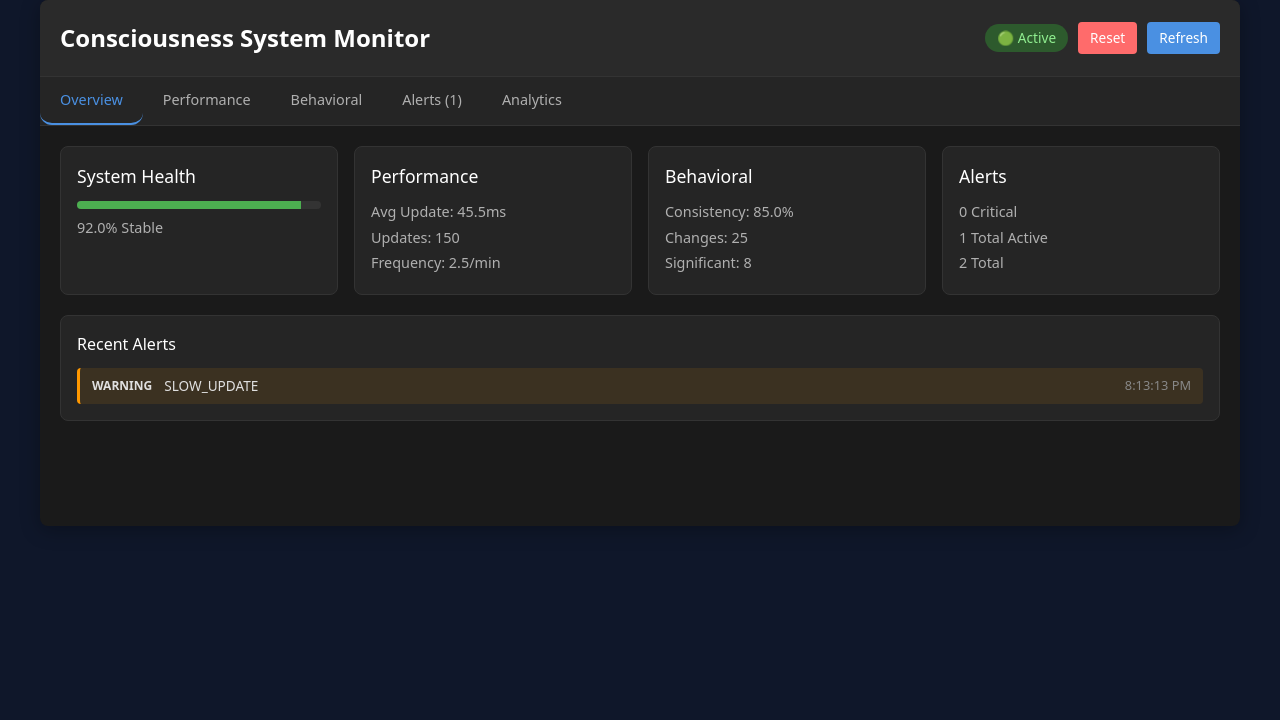
Test: ConsciousnessMonitoringDashboard › Performance Tab › should display performance metrics
Click the button "Performance".
click(207, 101)  # box [143,77,271,125]
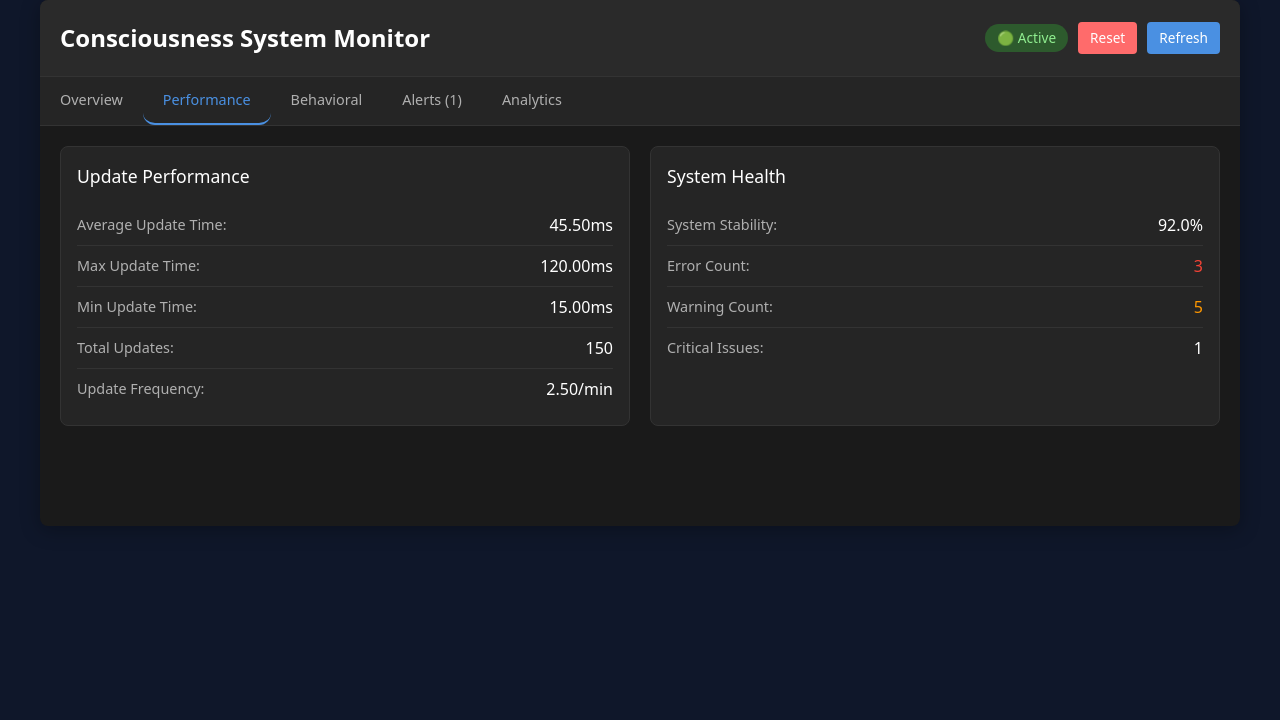
Result: the heading "Update Performance" is shown at [77,164,250,188]
Result: the text "Average Update Time:" is shown at [77,214,227,236]
Result: the text "45.50ms" is shown at [550,213,613,237]
